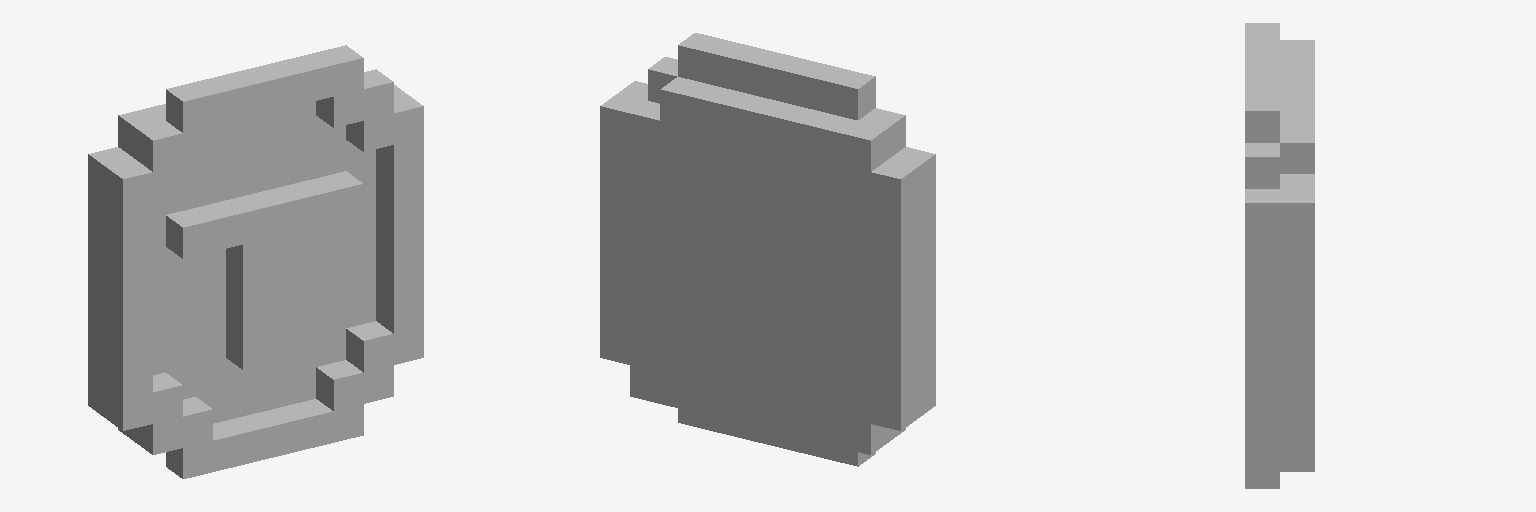
File: Moeda.obj
The picture shows the model from 3 angles: view 1: azimuth 30°, elevation 25°; view 2: azimuth 150°, elevation 25°; view 3: azimuth 270°, elevation 25°; orthographic projection.
Size of the model in its own units: 10 by 12 by 2.